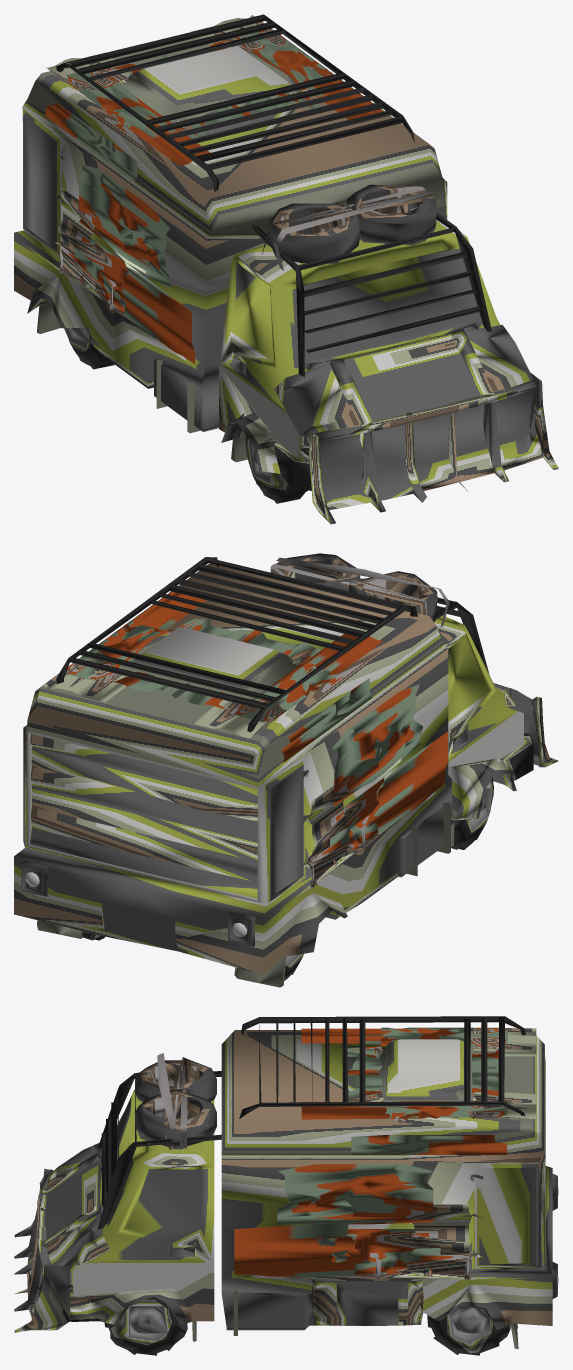
Rendered from truck_armored.glb.
3 renders of one model, top to bottom at view 1: azimuth 30°, elevation 25°; view 2: azimuth 150°, elevation 25°; view 3: azimuth 270°, elevation 25°, orthographic. The views are drawn at different scales.
Size of the model in its own units: 2.98 by 2.89 by 5.58.
Materials: 2 (1 with a texture image).
